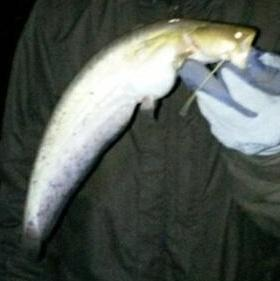Catfish: (29, 19, 280, 264)
